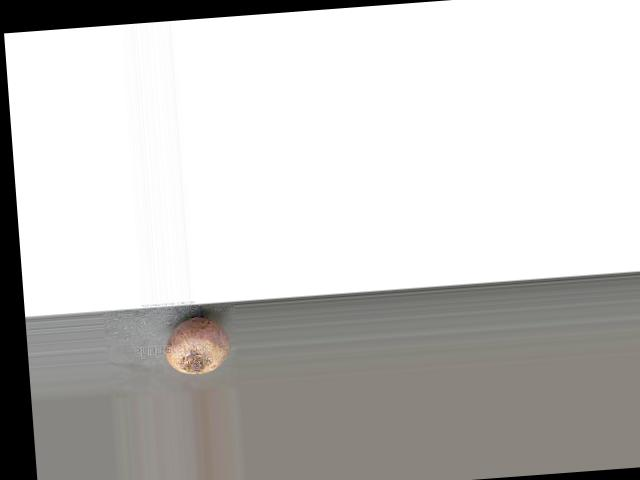beet: (164, 315, 233, 375)
